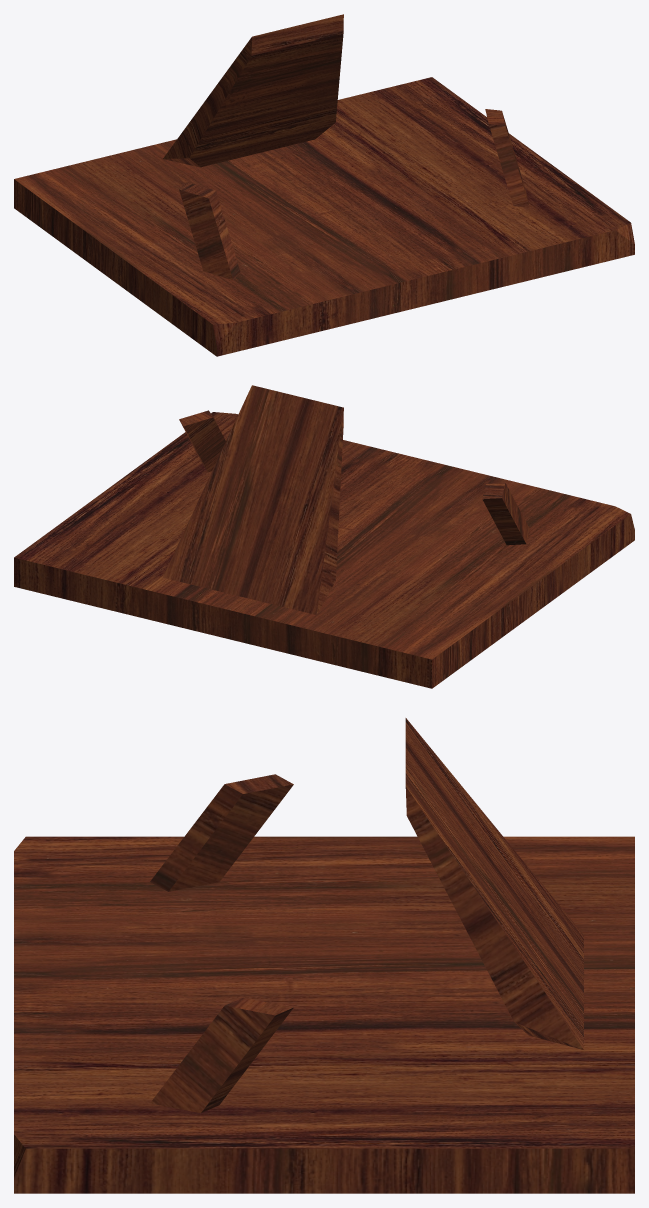
The model's file is Penyangga.fbx.
3 renders of one model, top to bottom at view 1: azimuth 30°, elevation 25°; view 2: azimuth 150°, elevation 25°; view 3: azimuth 270°, elevation 25°, orthographic. The views are drawn at different scales.
Visible parts, largest first — view 1: Penyangga; view 2: Penyangga; view 3: Penyangga.
Boxes of the visible parts, x1,y1,x2,y2 form: Penyangga: [14, 14, 634, 356]; Penyangga: [14, 385, 634, 688]; Penyangga: [14, 718, 634, 1193].
Size of the model in its own units: 79.43 by 33.87 by 66.75.
